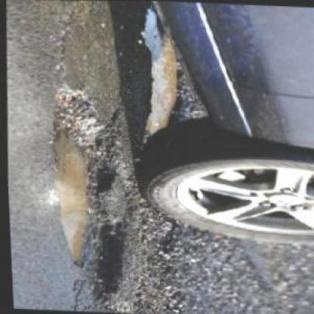Hueco: (38, 85, 133, 300)
